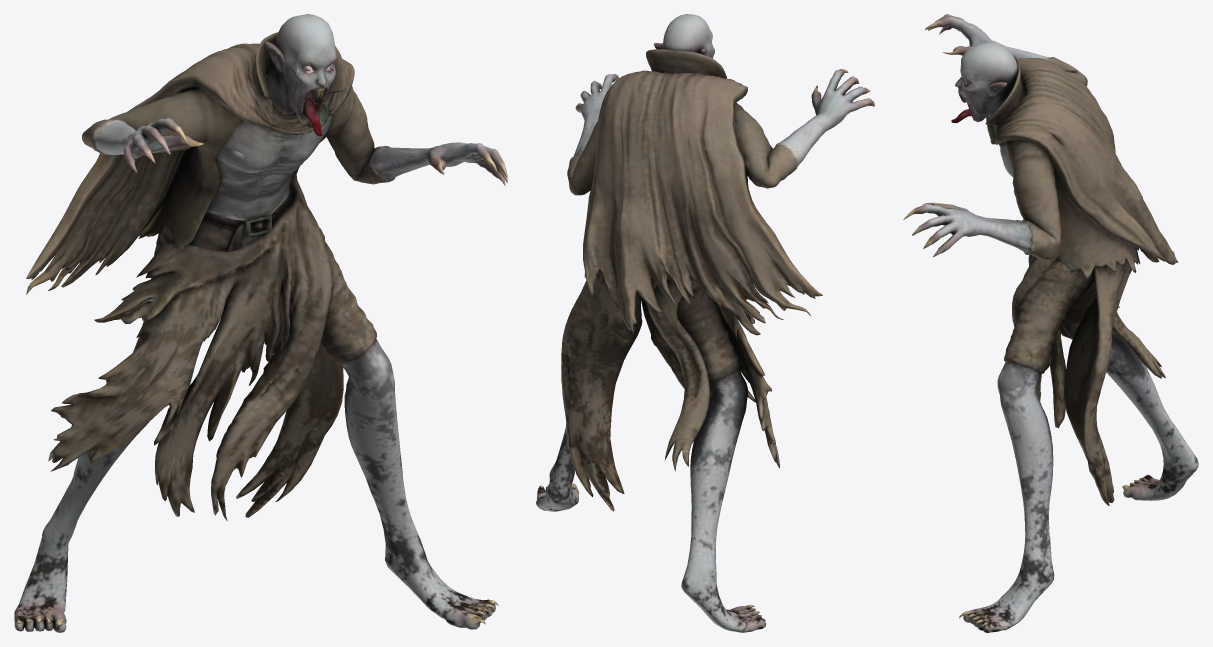
The model's file is MZ4250 - Nosferatu Vampire Male 2025.glb.
The picture shows the model from 3 angles, left to right: view 1: azimuth 30°, elevation 25°; view 2: azimuth 150°, elevation 25°; view 3: azimuth 270°, elevation 25°; orthographic projection. The views are drawn at different scales.
Visible parts, largest first — view 1: Cape Base.001; view 2: Cape Base.001; view 3: Cape Base.001.
Part boxes in pixels (x1,y1,x2,y2): Cape Base.001: [14, 14, 507, 632]; Cape Base.001: [536, 14, 874, 632]; Cape Base.001: [903, 14, 1198, 632].
Size of the model in its own units: 65.27 by 97.28 by 50.24.
Materials: 1 (1 with a texture image).
